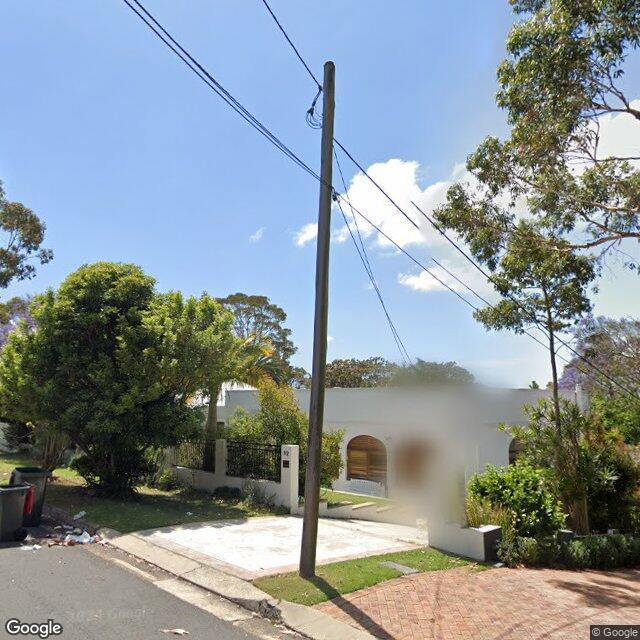timber-pole: (300, 62, 336, 578)
